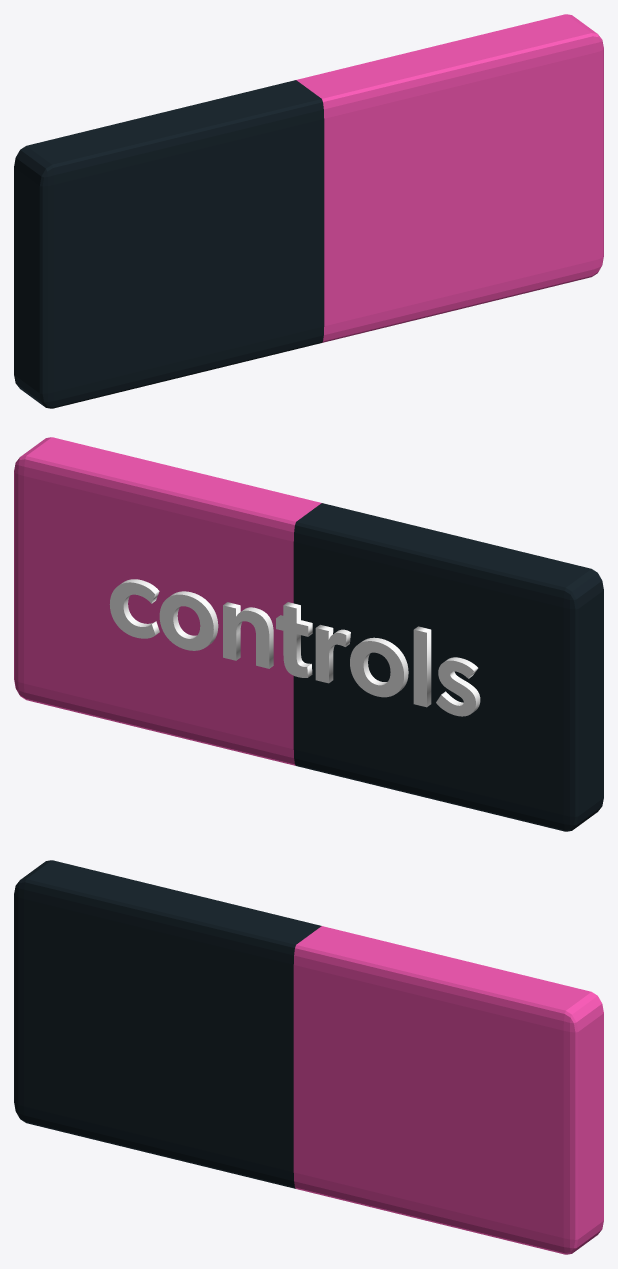
The model's file is 101_UI_CONTROLSbutton_.fbx.
3 views of the same model, one above another, from view 1: azimuth 30°, elevation 25°; view 2: azimuth 150°, elevation 25°; view 3: azimuth 330°, elevation 25° (orthographic).
Visible parts, largest first — view 1: Cube.037; view 2: Cube.037, dress me.103; view 3: Cube.037.
Part boxes in pixels (x1,y1,x2,y2): Cube.037: [14, 14, 603, 408]; Cube.037: [14, 437, 603, 831]; dress me.103: [109, 579, 480, 716]; Cube.037: [14, 860, 603, 1254].
Bounding box in the file's own units: 102 × 42.35 × 10.95.
